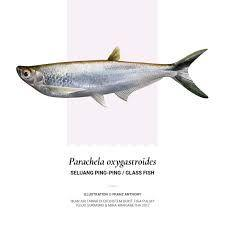Tenpounder: (15, 45, 212, 106)
